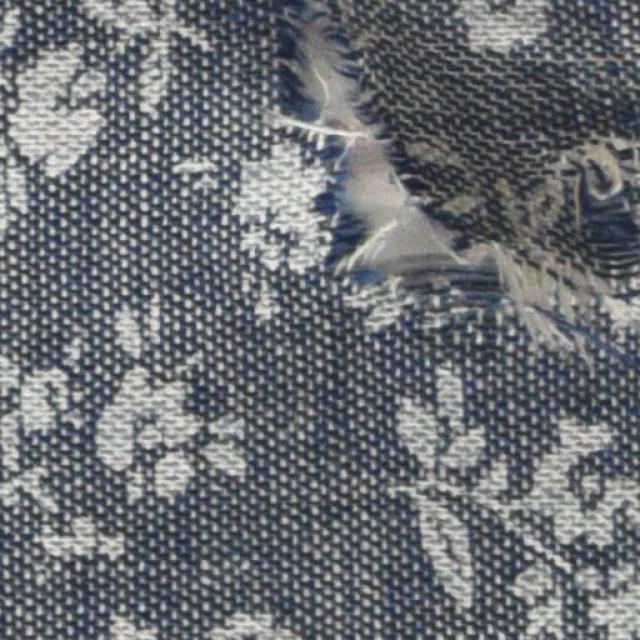Hole: (309, 41, 475, 285)
Snag: (272, 32, 466, 315), (497, 126, 639, 359)
